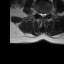CCS_normal: (42, 12, 44, 20)
LFS_normal: (46, 10, 49, 16)
LLS_stenosis: (44, 11, 46, 18)
RFS_normal: (38, 11, 40, 17)
RLS_normal: (40, 11, 42, 18)
